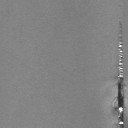slag inclusion: (112, 20, 126, 126)
